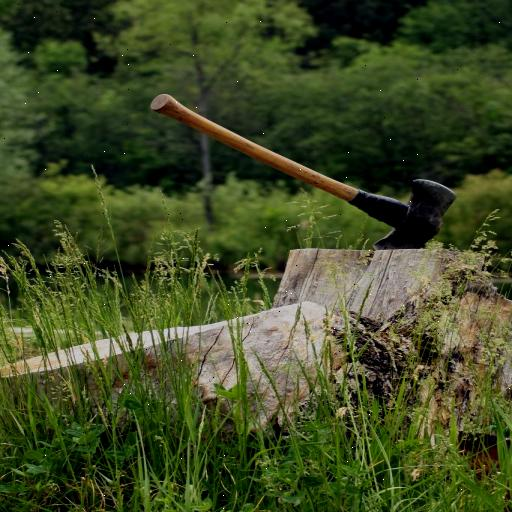Axe: (150, 91, 458, 250)
